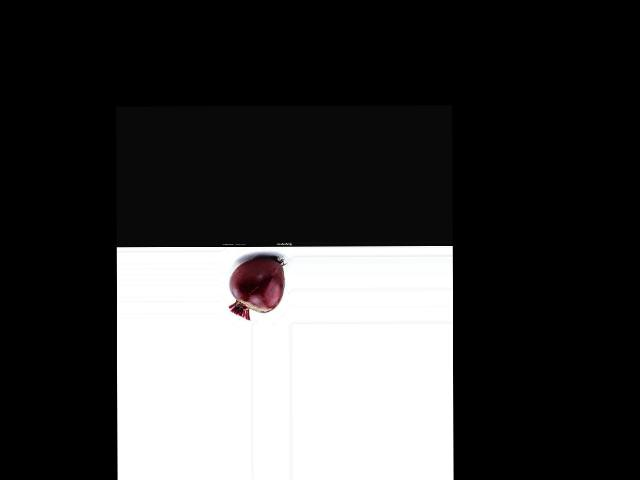beet: (228, 257, 284, 319)
